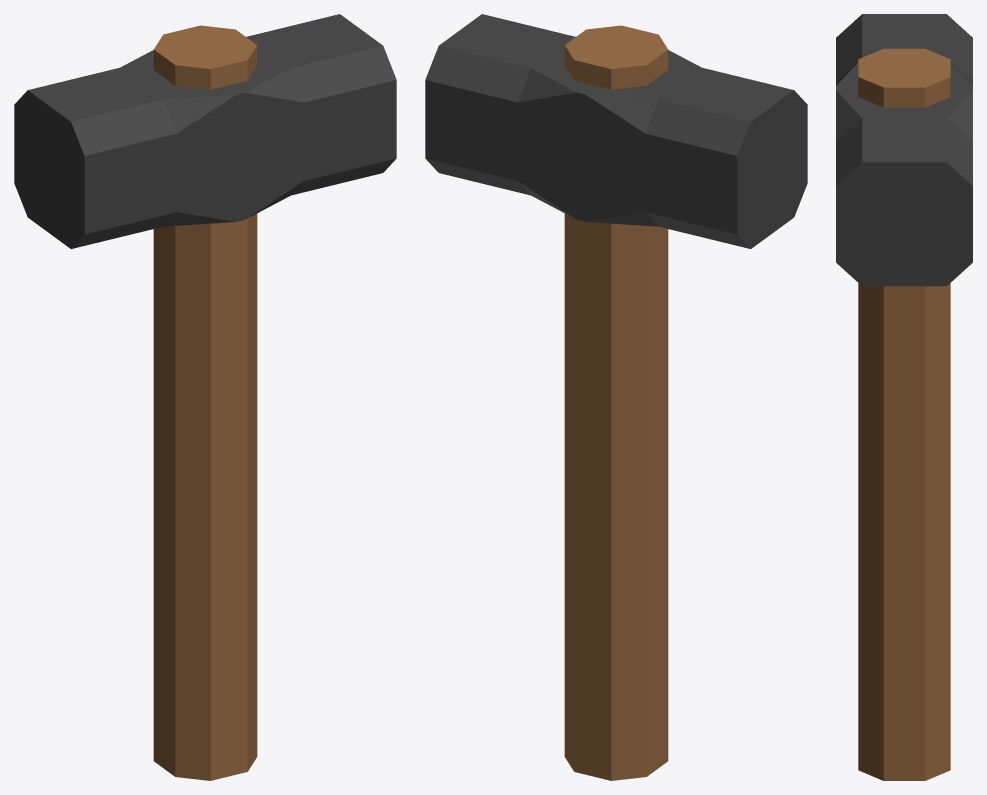
Rendered from Hammer_01.fbx.
3 views of the same model, side by side, from view 1: azimuth 30°, elevation 25°; view 2: azimuth 150°, elevation 25°; view 3: azimuth 270°, elevation 25° (orthographic). The views are drawn at different scales.
Parts seen in each view (by area): view 1: Hammer_01; view 2: Hammer_01; view 3: Hammer_01.
Part boxes in pixels (bbox=[...]): Hammer_01: bbox=[14, 14, 396, 780]; Hammer_01: bbox=[425, 14, 807, 780]; Hammer_01: bbox=[836, 14, 972, 780].
Size of the model in its own units: 17.96 by 39.14 by 7.
